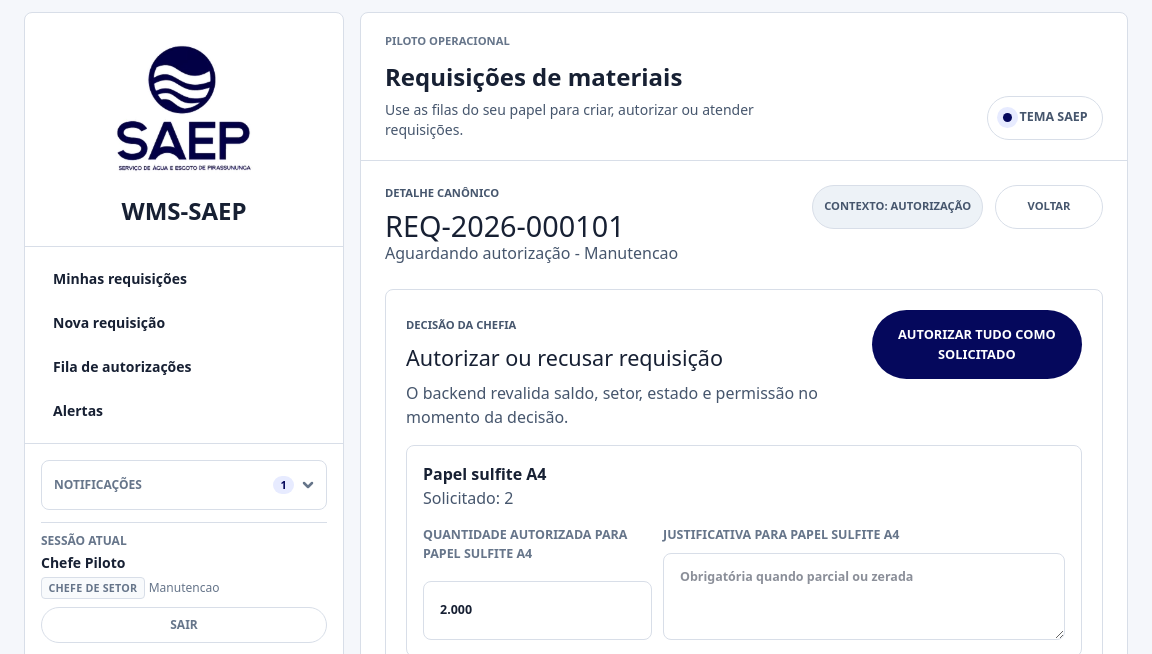
it: frontend pilot router › keeps user on detail when authorization action returns domain error
Check: the heading "REQ-2026-000101" is shown, box [385,206,625,245]
Click the button "Autorizar tudo como solicitado".
click(977, 345)  # box [872,310,1082,379]
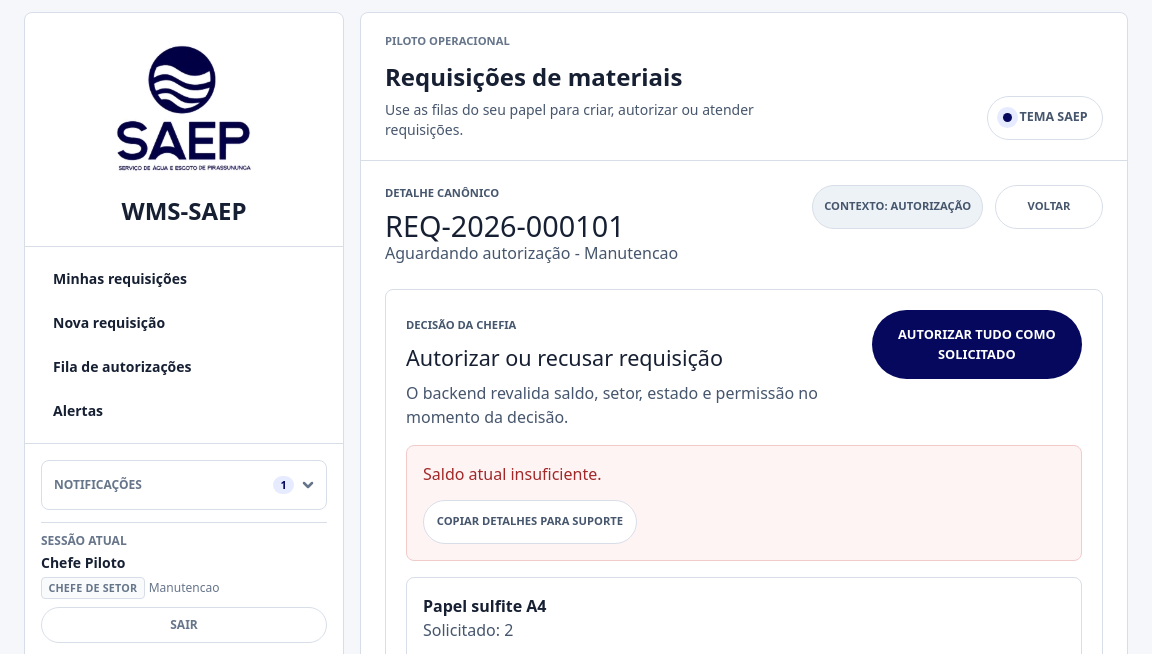
Check: the text "Saldo atual insuficiente." is shown, box [423,463,602,485]
Click the button "Copiar detalhes para suporte".
click(530, 522)  # box [423,500,637,544]
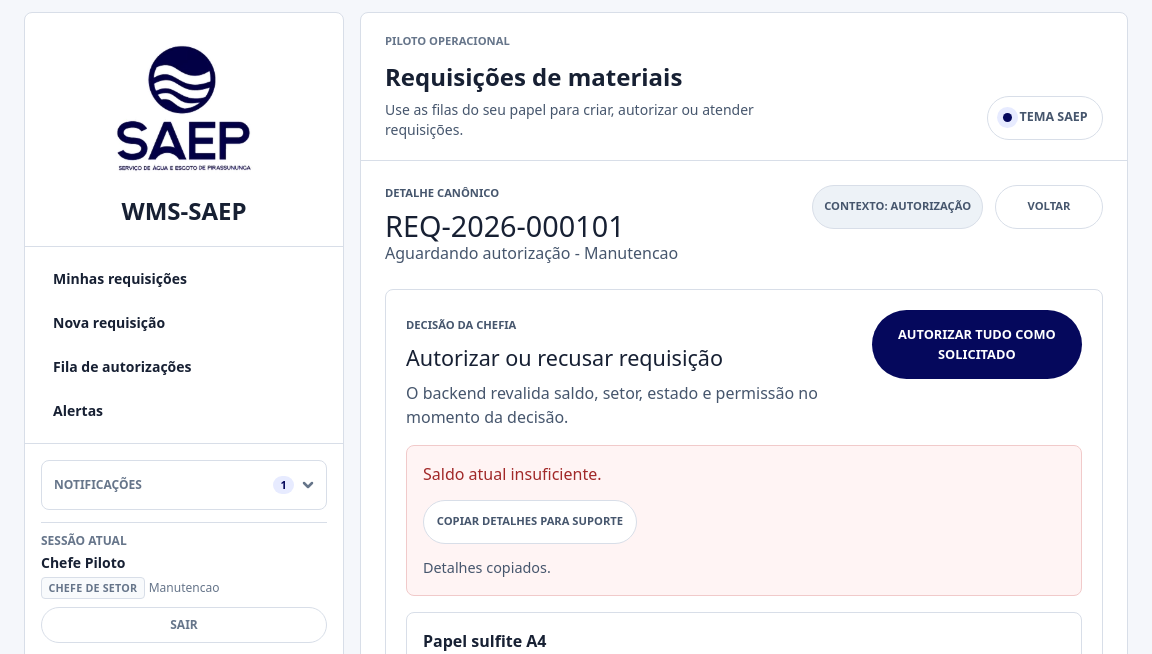
Check: the text "Detalhes copiados." is shown, box [423,558,551,577]
